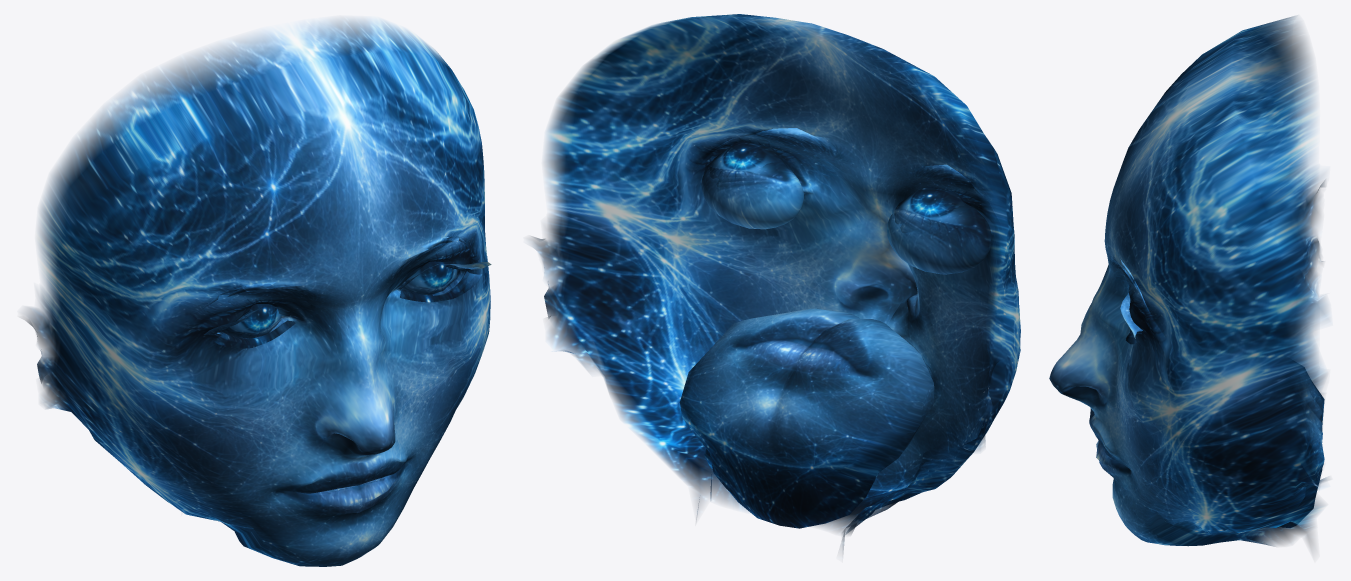
Rendered from user-mask.glb.
3 views of the same model, side by side, from view 1: azimuth 30°, elevation 25°; view 2: azimuth 150°, elevation 25°; view 3: azimuth 270°, elevation 25° (orthographic). The views are drawn at different scales.
Visible parts, largest first — view 1: UserAcceptedMask; view 2: UserAcceptedMask; view 3: UserAcceptedMask.
Boxes of the visible parts, x1,y1,x2,y2 form: UserAcceptedMask: (22,20,491,566); UserAcceptedMask: (530,14,1020,551); UserAcceptedMask: (1049,16,1327,548).
Bounding box in the file's own units: 0.2346 × 0.2356 × 0.1272.
Materials: 1 (1 with a texture image).
